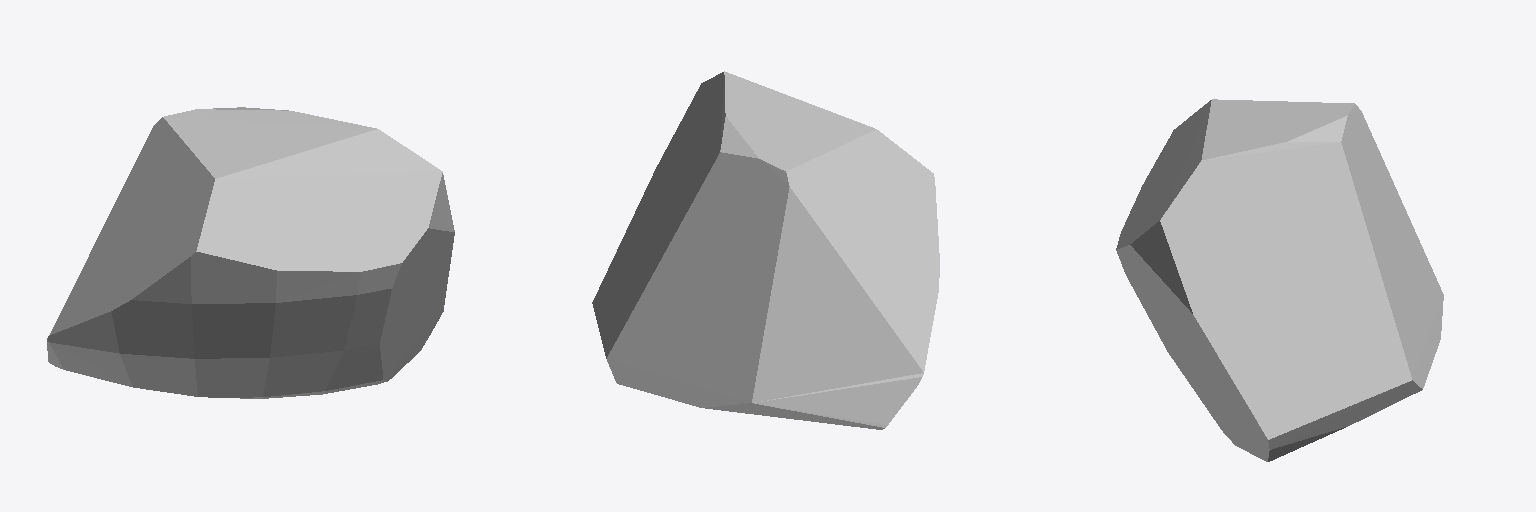
File: Sphere_Cell_Fracture7.obj
The picture shows the model from 3 angles: view 1: azimuth 30°, elevation 25°; view 2: azimuth 150°, elevation 25°; view 3: azimuth 270°, elevation 25°; orthographic projection.
Size of the model in its own units: 0.9041 by 0.6455 by 0.7066.